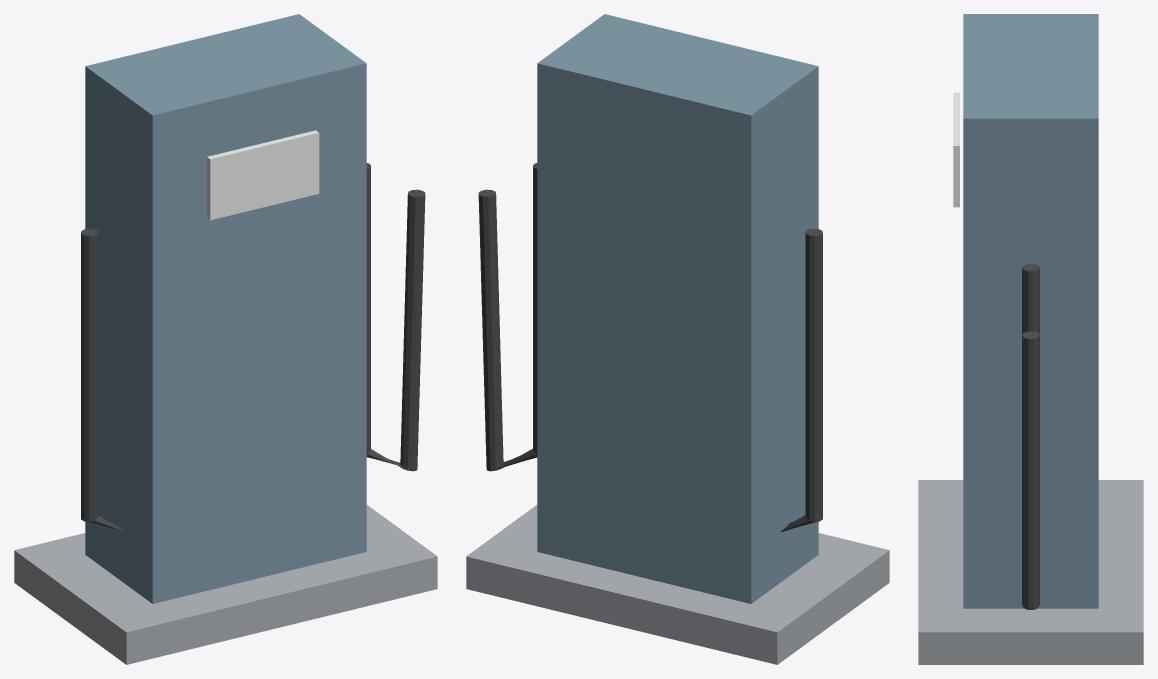
Rendered from road-car-showroom-lineup-air-water-station-3c81528d__15151.glb.
3 renders of one model, left to right at view 1: azimuth 30°, elevation 25°; view 2: azimuth 150°, elevation 25°; view 3: azimuth 270°, elevation 25°, orthographic.
Parts seen in each view (by area): view 1: air-water-station; view 2: air-water-station; view 3: air-water-station.
Part boxes in pixels (x1,y1,x2,y2): air-water-station: (14, 14, 437, 664); air-water-station: (466, 14, 889, 664); air-water-station: (918, 14, 1143, 664).
Bounding box in the file's own units: 0.909 × 1.28 × 0.5.
